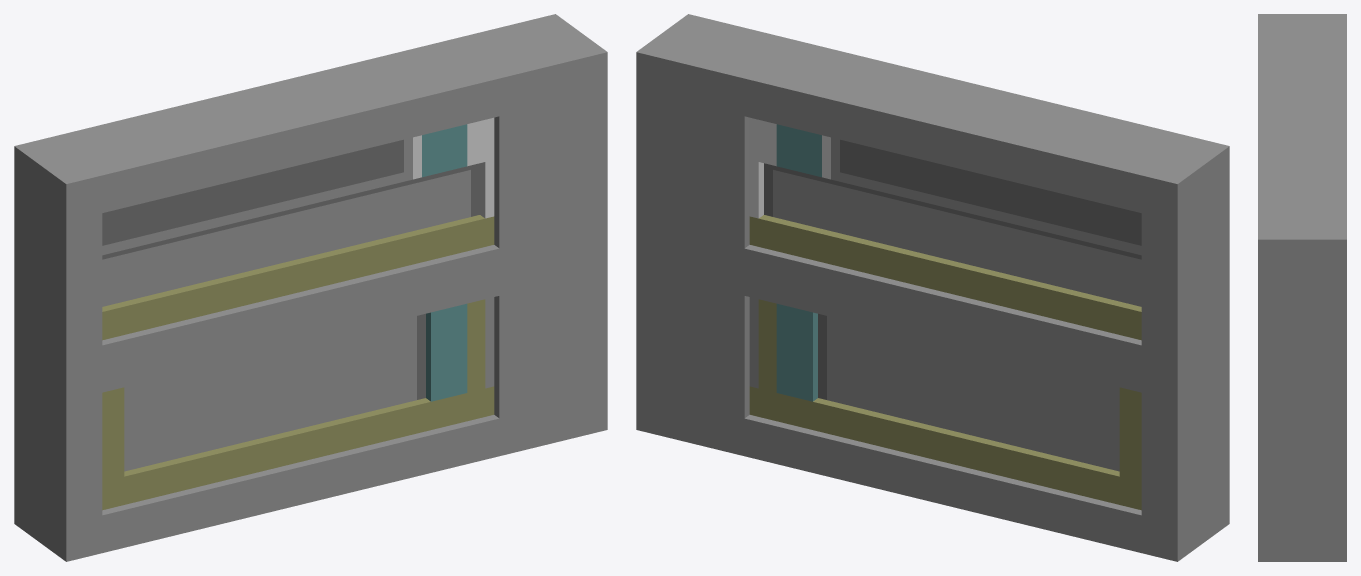
The model's file is Conference Room Wall.obj.
3 views of the same model, side by side, from view 1: azimuth 30°, elevation 25°; view 2: azimuth 150°, elevation 25°; view 3: azimuth 270°, elevation 25° (orthographic). The views are drawn at different scales.
Size of the model in its own units: 60 by 40 by 10.
1 material, 1 textured.
